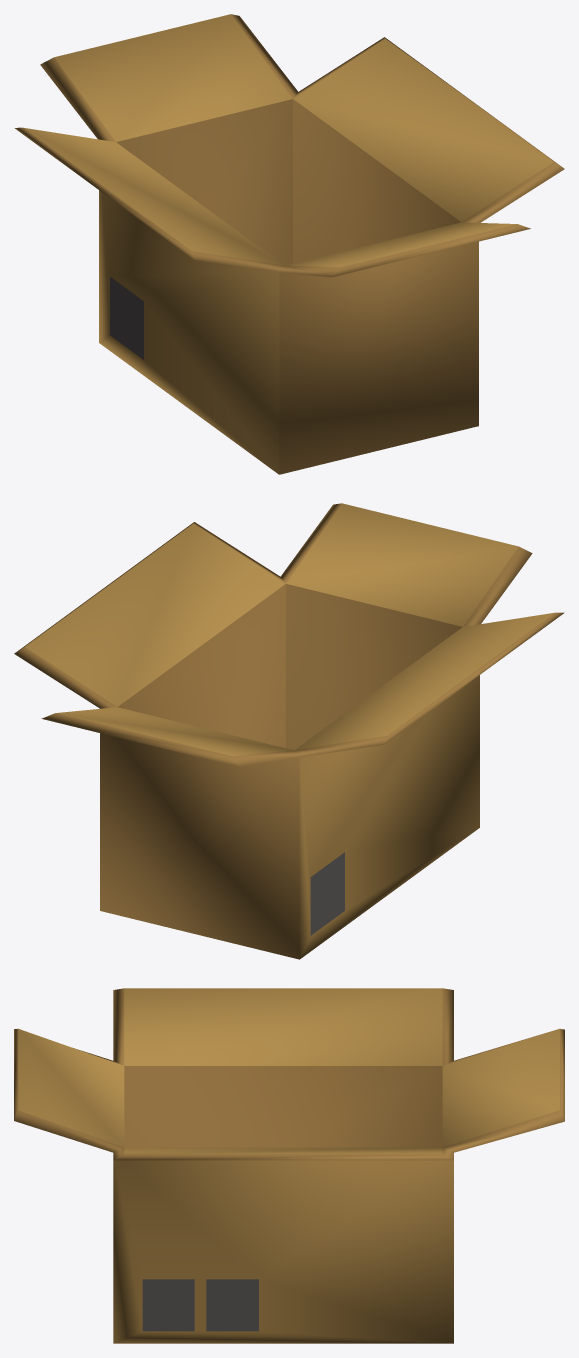
File: delivery_box.glb
The picture shows the model from 3 angles, top to bottom: view 1: azimuth 30°, elevation 25°; view 2: azimuth 150°, elevation 25°; view 3: azimuth 270°, elevation 25°; orthographic projection. The views are drawn at different scales.
Visible parts, largest first — view 1: SO_CarboardBox_02_geometry; view 2: SO_CarboardBox_02_geometry; view 3: SO_CarboardBox_02_geometry.
Part boxes in pixels (x1,y1,x2,y2): SO_CarboardBox_02_geometry: (14, 14, 564, 474); SO_CarboardBox_02_geometry: (14, 503, 564, 959); SO_CarboardBox_02_geometry: (14, 988, 564, 1343).
Bounding box in the file's own units: 1.23 × 0.7635 × 1.67.
1 material, 1 textured.
